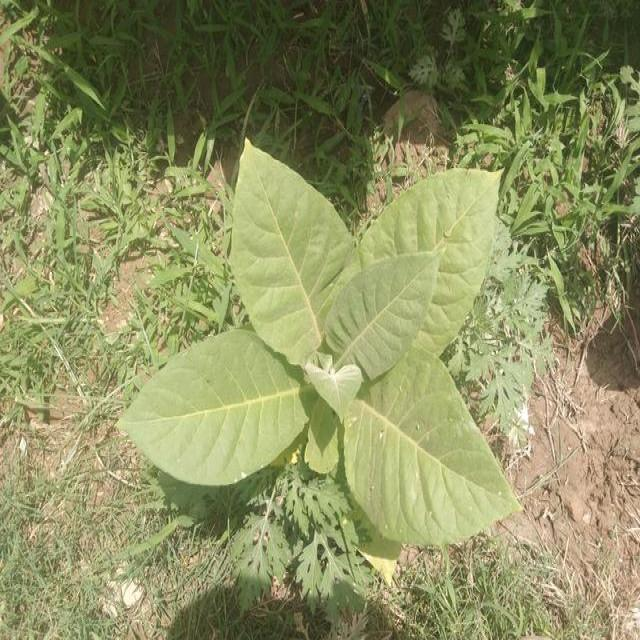crop: (114, 132, 528, 551)
